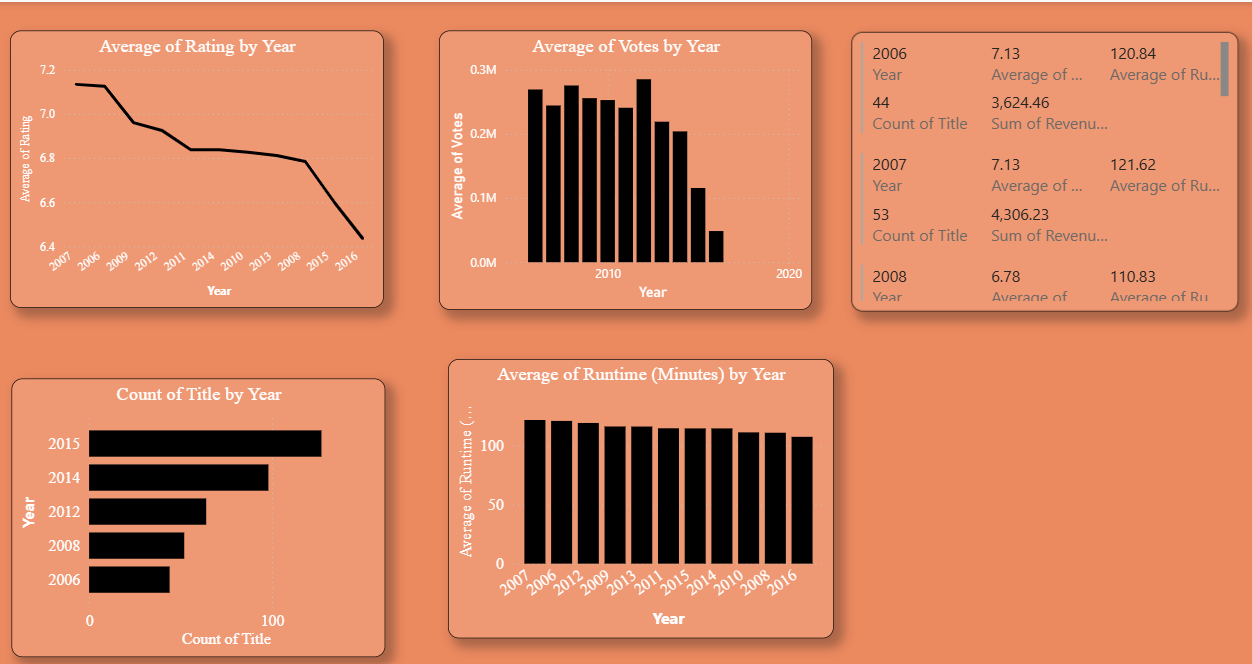

What the dashboard file says about the page in this screenshot:
{"tool":"powerbi","page":{"name":"Page 2","canvas":[1280,720],"ordinal":1},"visuals":[{"type":"lineChart","fields":{"Category":["IMDB-Movie-Data.Year"],"Y":["Avg(IMDB-Movie-Data.Rating)"]},"box":[17.8,28.8,377.4,279.9],"z":0},{"type":"lineStackedColumnComboChart","fields":{"Category":["IMDB-Movie-Data.Year"],"Y":["Avg(IMDB-Movie-Data.Runtime (Minutes))"]},"box":[460.7,360.3,389.2,281.9],"z":1000},{"type":"barChart","fields":{"Category":["IMDB-Movie-Data.Year"],"Y":["CountNonNull(IMDB-Movie-Data.Title)"]},"box":[19.2,380.1,377.4,281.3],"z":3000},{"type":"clusteredColumnChart","fields":{"Y":["Avg(IMDB-Movie-Data.Votes)"],"Category":["IMDB-Movie-Data.Year"]},"box":[451.1,28.9,376.8,281.9],"z":4000},{"type":"multiRowCard","fields":{"Values":["IMDB-Movie-Data.Year","Avg(IMDB-Movie-Data.Rating)","Avg(IMDB-Movie-Data.Runtime (Minutes))","CountNonNull(IMDB-Movie-Data.Title)","Sum(IMDB-Movie-Data.Revenue (Millions))"]},"box":[867.7,30.3,390.5,281.9],"z":5000}]}

Visuals, with their boxes on the page's 1280x720 design canvas (x1, y1, x2, y2). These are canvas units, not pixel positions in the 1252x664 screenshot, which may show the page scaled, cropped or inside an application window:
lineChart - IMDB-Movie-Data.Year x Avg(IMDB-Movie-Data.Rating): select_region(18, 29, 395, 309)
lineStackedColumnComboChart - IMDB-Movie-Data.Year x Avg(IMDB-Movie-Data.Runtime (Minutes)): select_region(461, 360, 850, 642)
barChart - IMDB-Movie-Data.Year x CountNonNull(IMDB-Movie-Data.Title): select_region(19, 380, 397, 661)
clusteredColumnChart - Avg(IMDB-Movie-Data.Votes) x IMDB-Movie-Data.Year: select_region(451, 29, 828, 311)
multiRowCard - IMDB-Movie-Data.Year x Avg(IMDB-Movie-Data.Rating): select_region(868, 30, 1258, 312)
